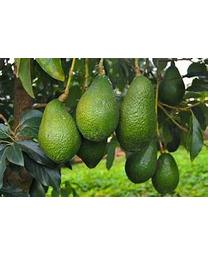avocado: (114, 75, 156, 152), (36, 98, 83, 166), (75, 75, 121, 143), (124, 134, 160, 184), (152, 153, 180, 195)
